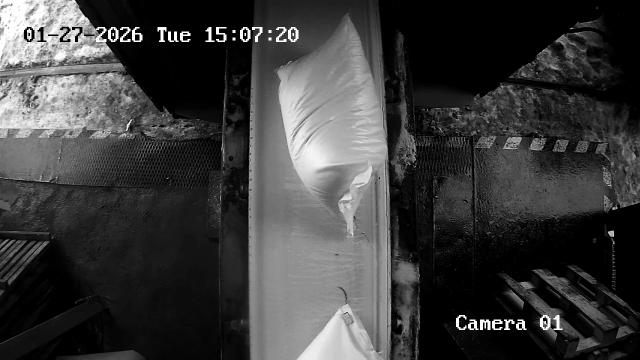bag: (277, 13, 388, 236), (297, 303, 386, 360)
